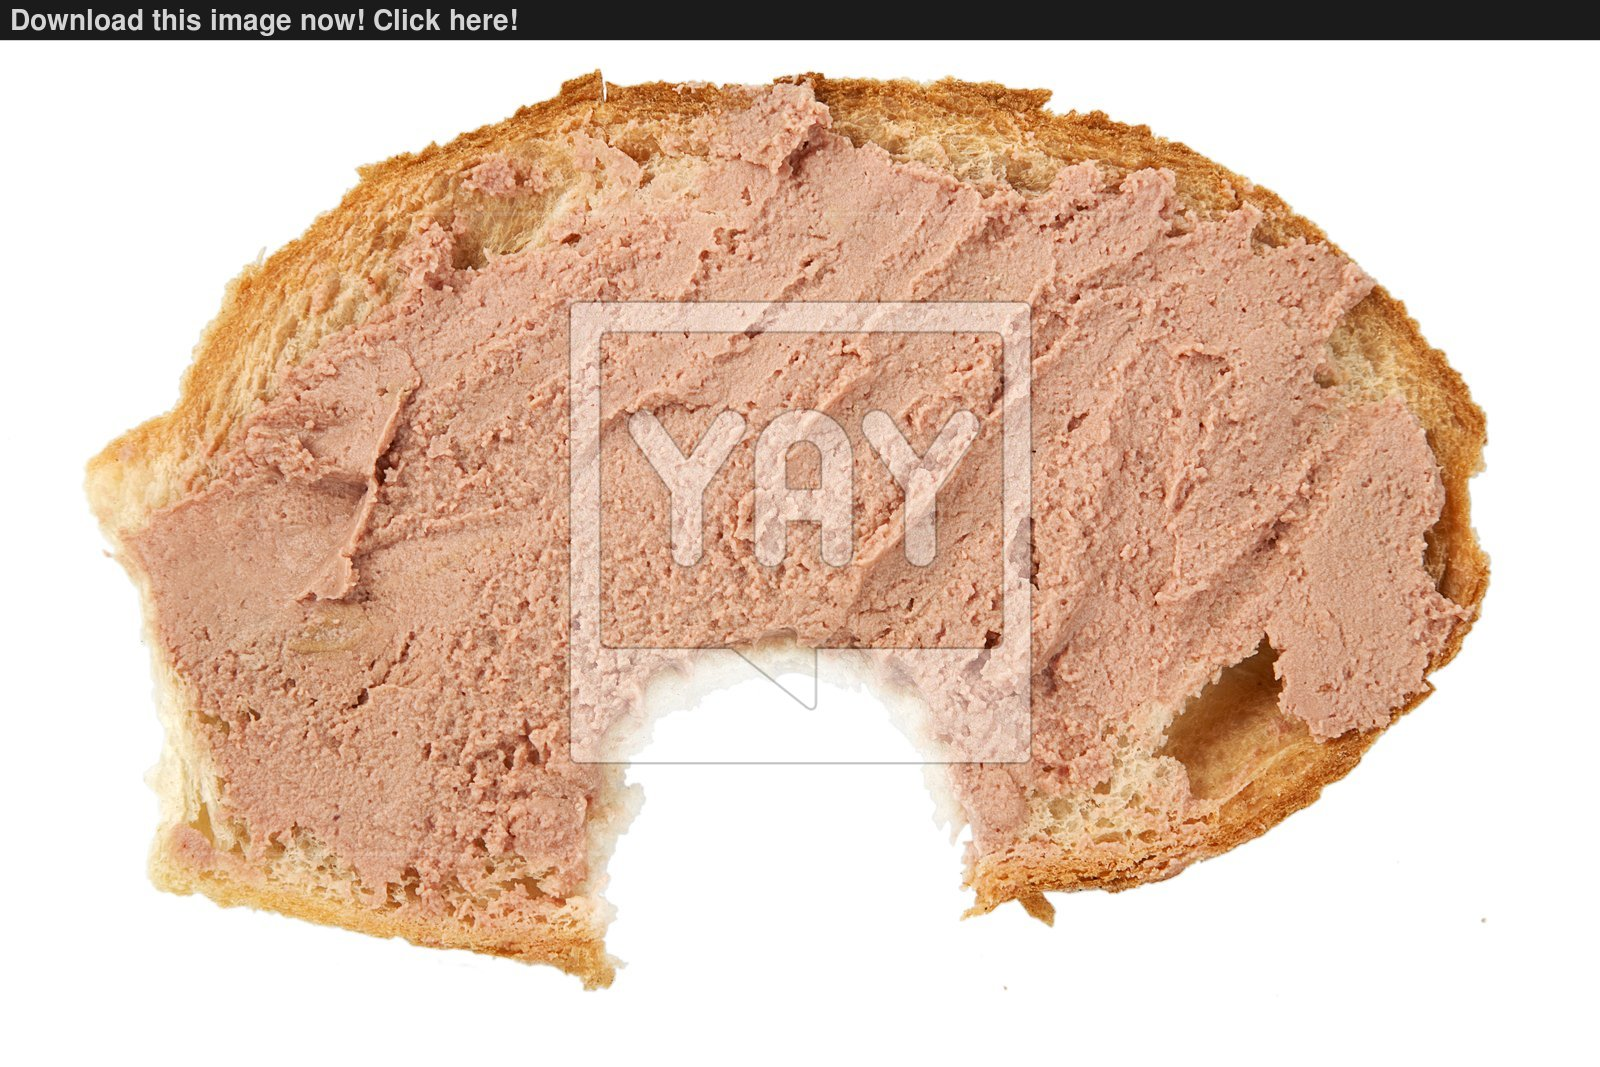slice of bread: (101, 71, 1489, 954)
